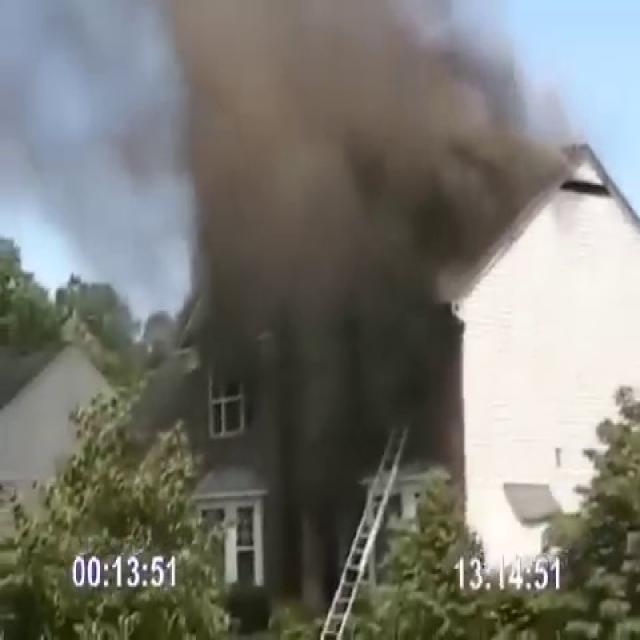Smoke: (167, 1, 562, 392)
